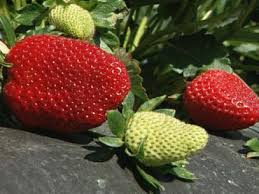strawberry: (2, 31, 134, 135), (184, 65, 259, 134)
